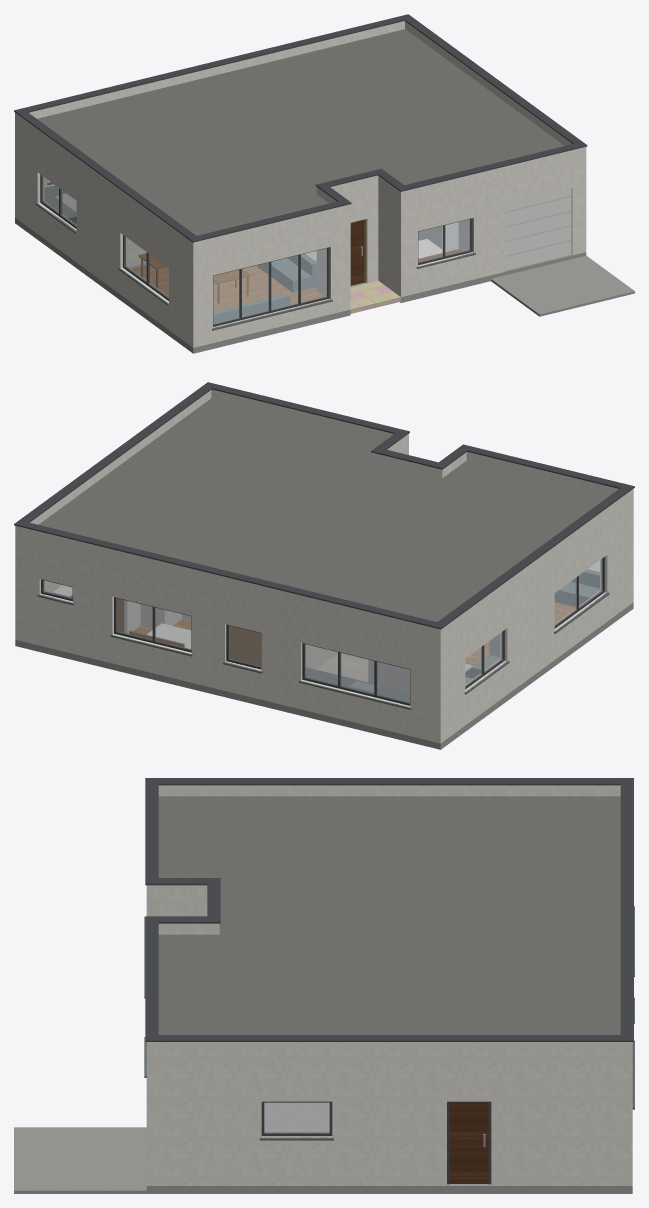
Rendered from two-bedroom-two-bath-house-with-one-car-garage-3d-model.glb.
3 renders of one model, top to bottom at view 1: azimuth 30°, elevation 25°; view 2: azimuth 150°, elevation 25°; view 3: azimuth 270°, elevation 25°, orthographic. The views are drawn at different scales.
Visible parts, largest first — view 1: Roof finish gravel, Wall, Window glazing, Parapet coping, Driveway, Sectional garage door, Ground floor slab, Living / dining floor, Window frame, Sofa back, Porch paving, Sofa seat (+5 smaller); view 2: Wall, Roof finish gravel, Parapet coping, Window glazing, Ground floor slab, Window frame, Window sill, Worktop, Shelving, Kitchen floor, Kitchen cabinets, Sofa seat (+3 smaller); view 3: Roof finish gravel, Wall, Parapet coping, Driveway, Ground floor slab, Door leaf, Window glazing, Window sill, Window frame, Garage floor, Door frame.001.
Part boxes in pixels (left/top/right/bottom): Roof finish gravel: left=37, top=29, right=564, bottom=235; Wall: left=15, top=21, right=586, bottom=347; Window glazing: left=42, top=176, right=470, bottom=324; Parapet coping: left=14, top=14, right=587, bottom=242; Driveway: left=491, top=255, right=634, bottom=316; Sectional garage door: left=505, top=188, right=571, bottom=271; Ground floor slab: left=15, top=217, right=586, bottom=353; Living / dining floor: left=131, top=265, right=323, bottom=311; Window frame: left=40, top=174, right=472, bottom=326; Sofa back: left=213, top=253, right=316, bottom=323; Porch paving: left=350, top=280, right=400, bottom=313; Sofa seat: left=257, top=258, right=316, bottom=292; Wall: left=15, top=389, right=633, bottom=743; Roof finish gravel: left=38, top=398, right=609, bottom=621; Parapet coping: left=14, top=382, right=634, bottom=629; Window glazing: left=43, top=559, right=602, bottom=702; Ground floor slab: left=15, top=602, right=633, bottom=749; Window frame: left=41, top=557, right=604, bottom=705; Window sill: left=37, top=592, right=609, bottom=709; Worktop: left=305, top=654, right=499, bottom=702; Shelving: left=229, top=626, right=260, bottom=665; Kitchen floor: left=316, top=653, right=471, bottom=682; Kitchen cabinets: left=368, top=660, right=409, bottom=692; Sofa seat: left=554, top=581, right=599, bottom=606; Roof finish gravel: left=158, top=796, right=620, bottom=1034; Wall: left=146, top=785, right=632, bottom=1185; Parapet coping: left=145, top=778, right=633, bottom=1041; Driveway: left=14, top=1127, right=146, bottom=1193; Ground floor slab: left=146, top=1184, right=632, bottom=1193; Door leaf: left=449, top=1102, right=488, bottom=1183; Window glazing: left=264, top=1102, right=329, bottom=1133; Window sill: left=144, top=906, right=634, bottom=1140; Window frame: left=261, top=1101, right=332, bottom=1136; Garage floor: left=264, top=1122, right=329, bottom=1132; Door frame.001: left=447, top=1101, right=491, bottom=1184.
Size of the model in its own units: 14.1 by 3.84 by 14.05.
Materials: 18 (18 with a texture image).
